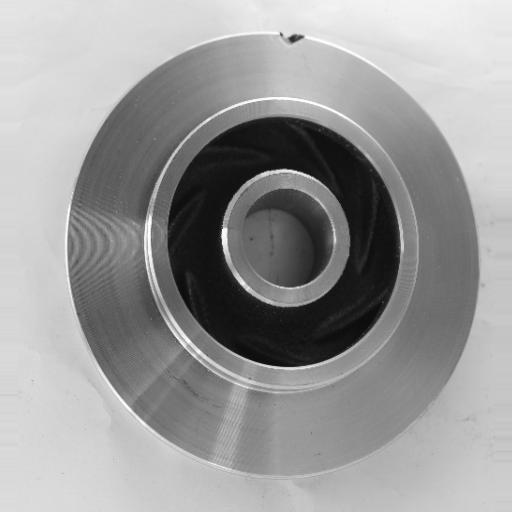crack: (270, 24, 311, 51)
unpolished_casting: (64, 26, 482, 482)
